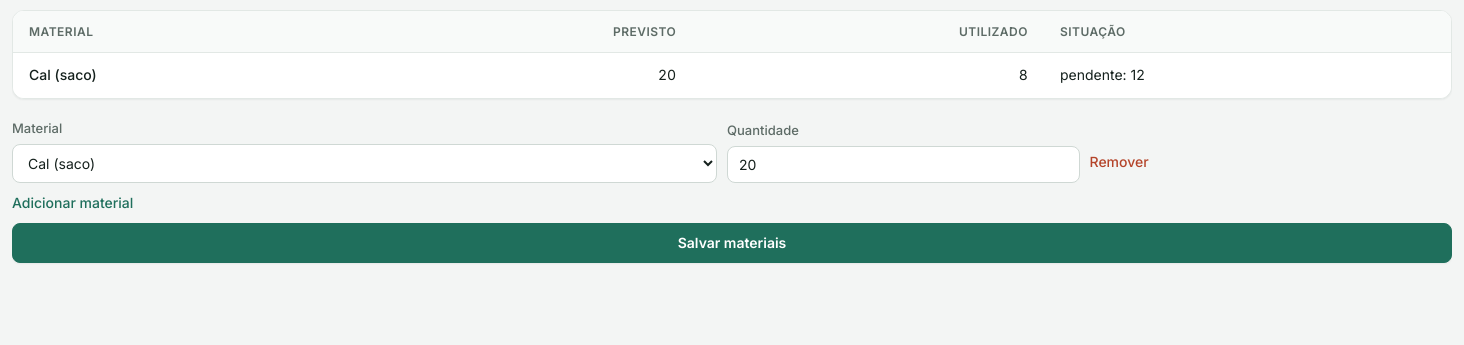
Test: MateriaisPrevistosForm › mostra o erro da API no formulário sem perder o que foi editado
Expected: the table is shown, [13,11,1451,98]
Replace the text in the number field labelled "Quantidade" with "30": [903, 164] box [727,146,1080,182]
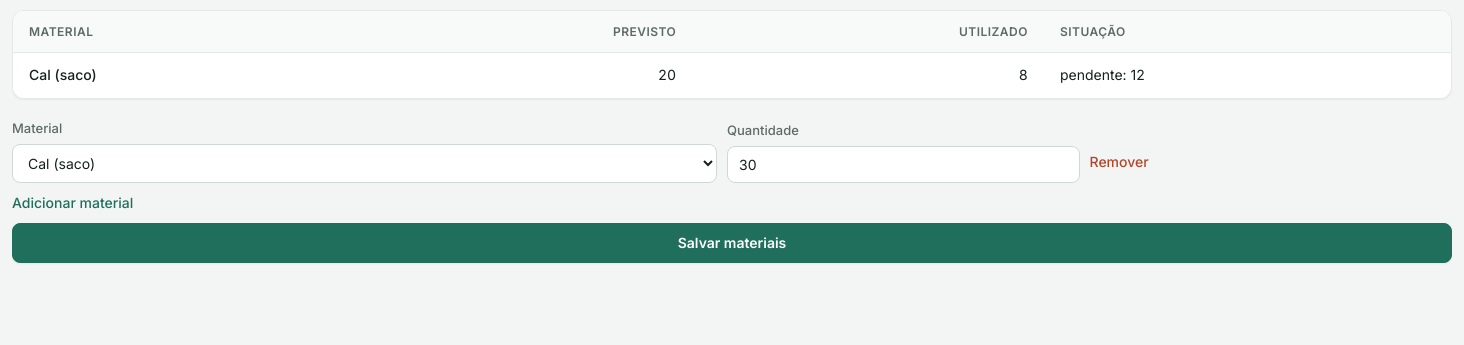
Click the button "Salvar materiais": [732, 243] box [12,223,1452,263]
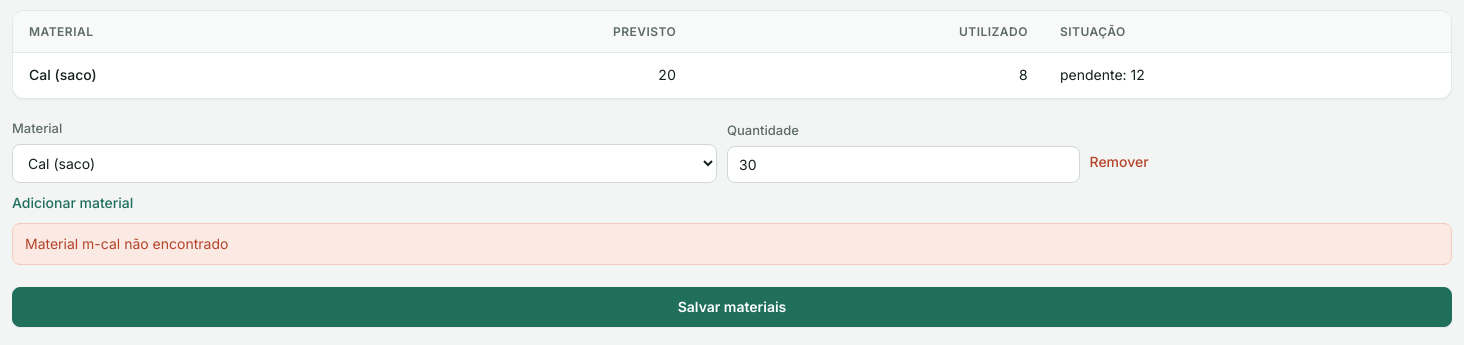
Expected: the text "Material m-cal não encontrado" is shown, [12,223,1452,265]
